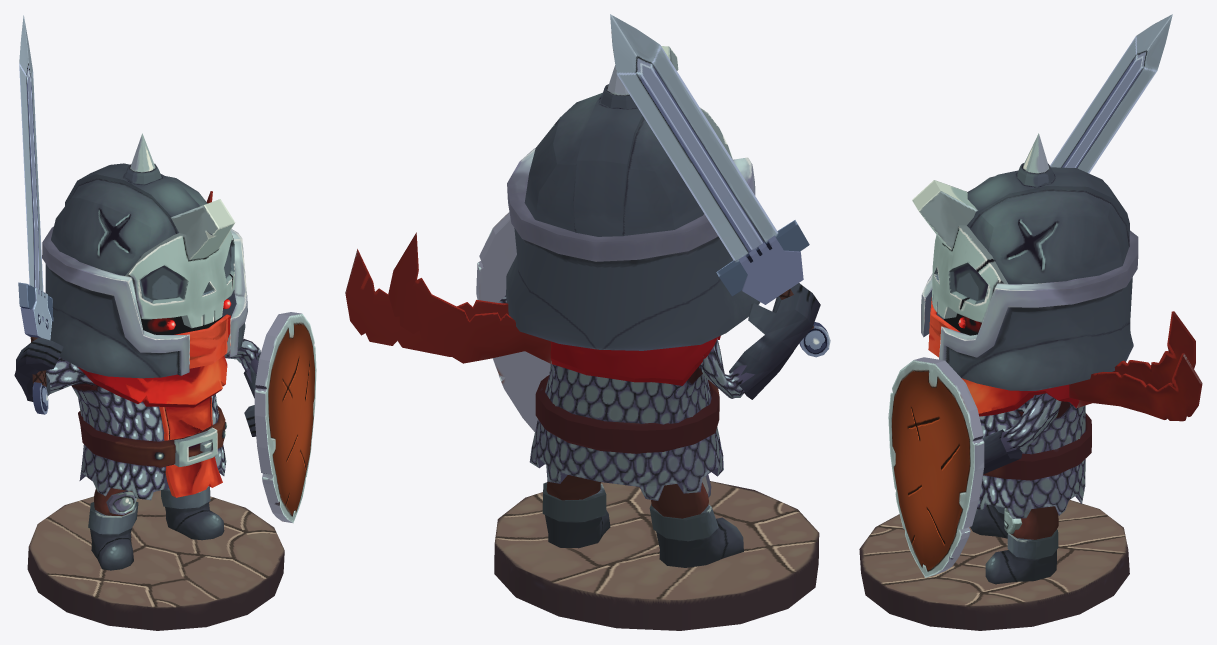
The model's file is skull_knight.glb.
3 renders of one model, left to right at view 1: azimuth 30°, elevation 25°; view 2: azimuth 150°, elevation 25°; view 3: azimuth 270°, elevation 25°, orthographic. The views are drawn at different scales.
Visible parts, largest first — view 1: mWisson_week_12_SkullKnight_01_for_rig:Object003; view 2: mWisson_week_12_SkullKnight_01_for_rig:Object003; view 3: mWisson_week_12_SkullKnight_01_for_rig:Object003.
Part boxes in pixels (<box>): mWisson_week_12_SkullKnight_01_for_rig:Object003: <box>14,15,316,630</box>; mWisson_week_12_SkullKnight_01_for_rig:Object003: <box>345,14,830,630</box>; mWisson_week_12_SkullKnight_01_for_rig:Object003: <box>859,14,1202,630</box>.
Size of the model in its own units: 147 by 256 by 147.
1 material, 1 textured.
